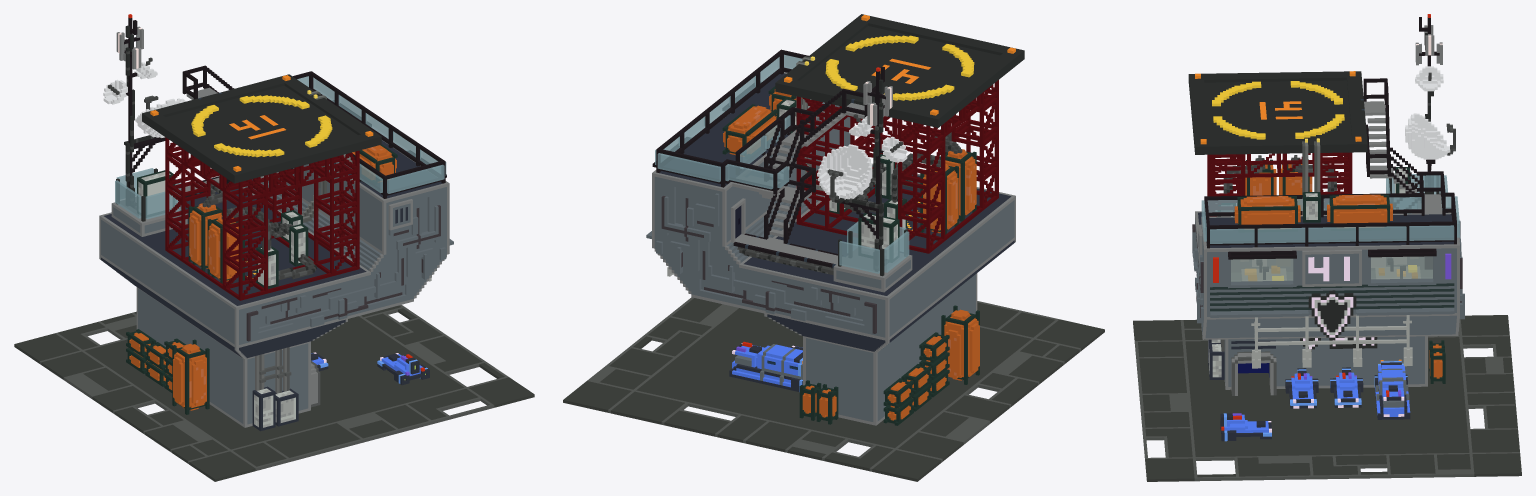
The model's file is almacen2_lev3.glb.
The picture shows the model from 3 angles, left to right: view 1: azimuth 30°, elevation 25°; view 2: azimuth 150°, elevation 25°; view 3: azimuth 270°, elevation 25°; orthographic projection. The views are drawn at different scales.
Visible parts, largest first — view 1: Object_2.002; view 2: Object_2.002; view 3: Object_2.002.
Boxes of the visible parts, box(x1,y1,x2,y2) form: Object_2.002: box(14, 14, 534, 481); Object_2.002: box(563, 14, 1104, 481); Object_2.002: box(1133, 14, 1521, 481).
Bounding box in the file's own units: 43.15 × 41.64 × 43.15.
Materials: 1 (1 with a texture image).
